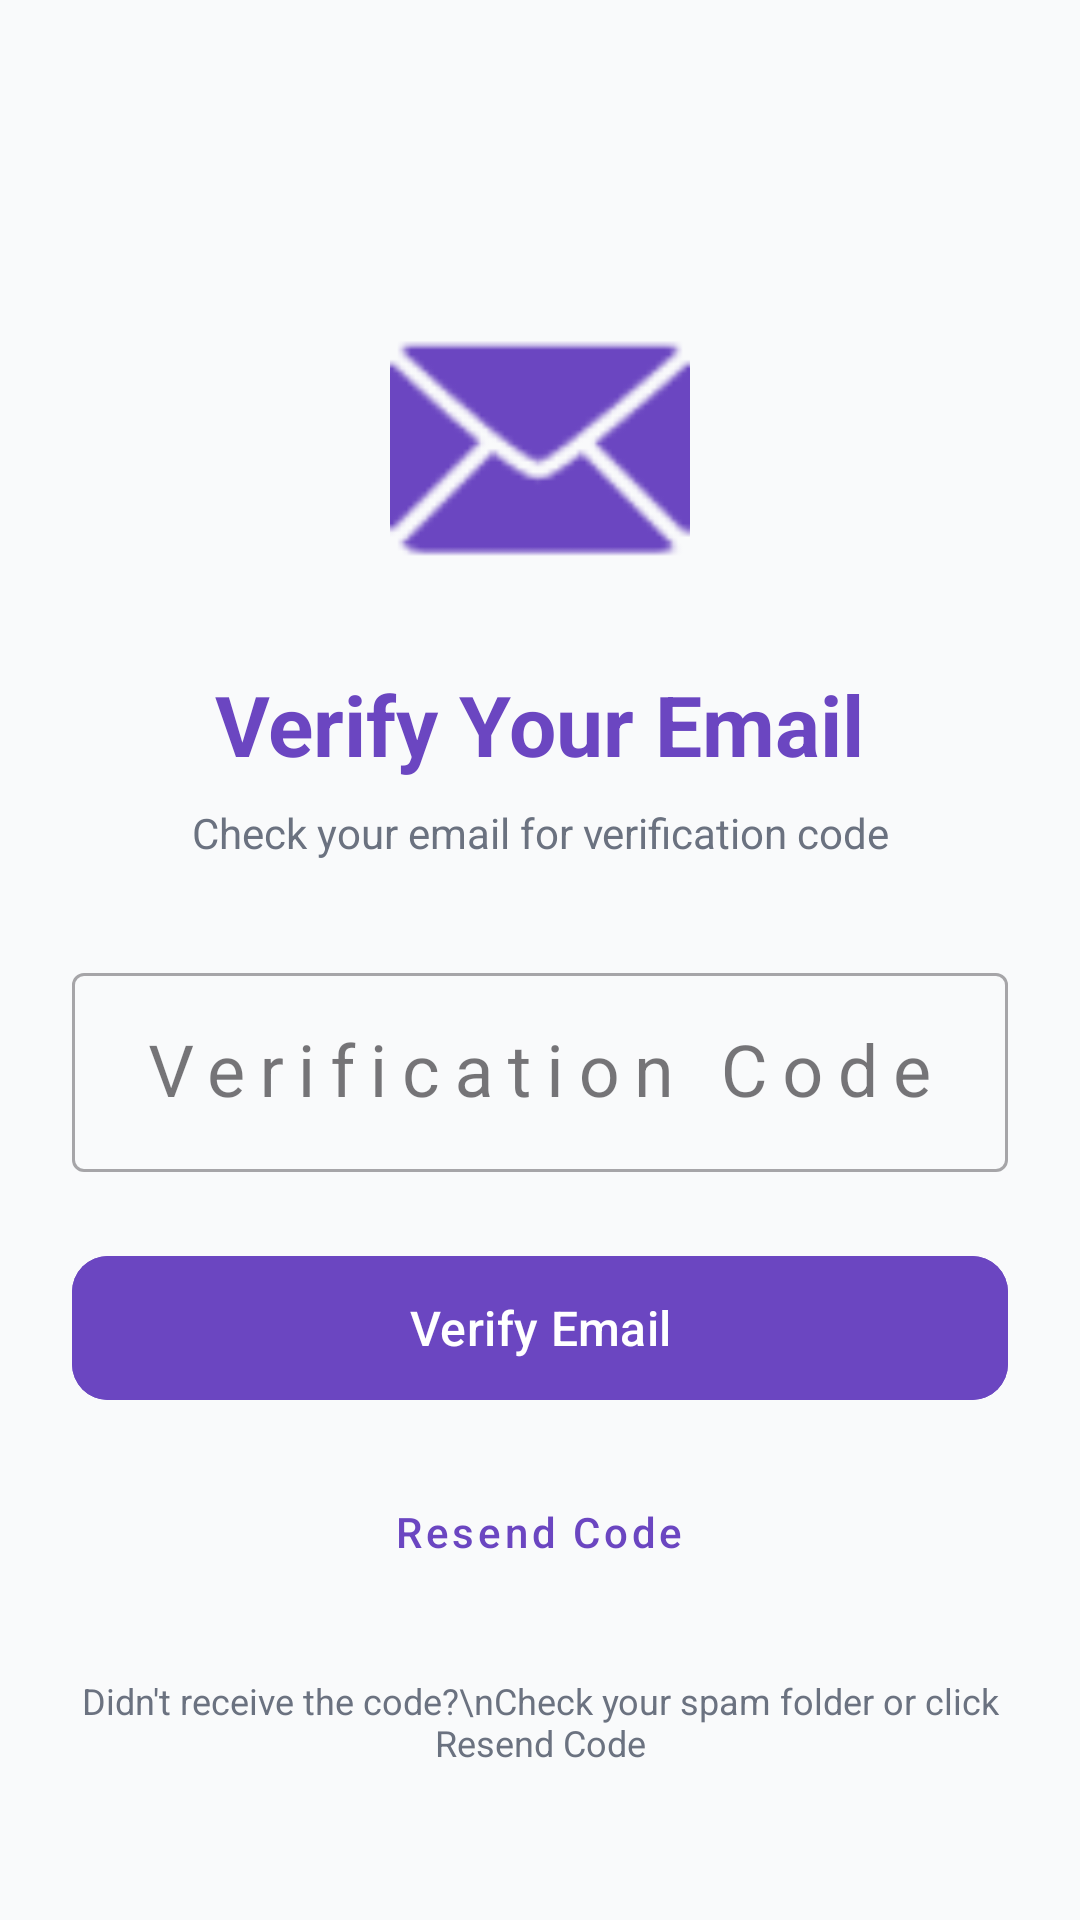

Icons on this 1080w x 1920h Android screen, each with the point to tap as (x=x, y=y):
Email verification: (x=540, y=448)
